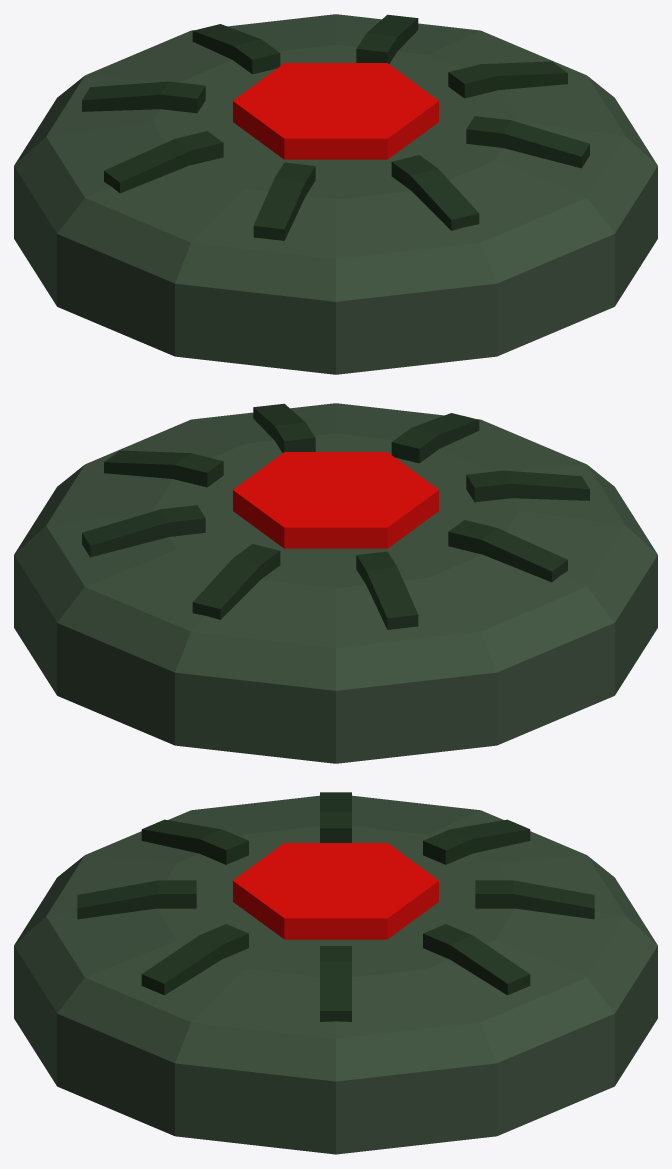
File: mine1.fbx
The picture shows the model from 3 angles, top to bottom: view 1: azimuth 30°, elevation 25°; view 2: azimuth 150°, elevation 25°; view 3: azimuth 270°, elevation 25°; orthographic projection.
Visible parts, largest first — view 1: Cylinder, Indicator; view 2: Cylinder, Indicator; view 3: Cylinder, Indicator.
Part boxes in pixels (x1,y1,x2,y2): Cylinder: (14,14,657,374); Indicator: (233,63,438,159); Cylinder: (14,403,657,763); Indicator: (233,452,438,548); Cylinder: (14,792,657,1154); Indicator: (233,843,438,939).
Bounding box in the file's own units: 40 × 9.45 × 40.
